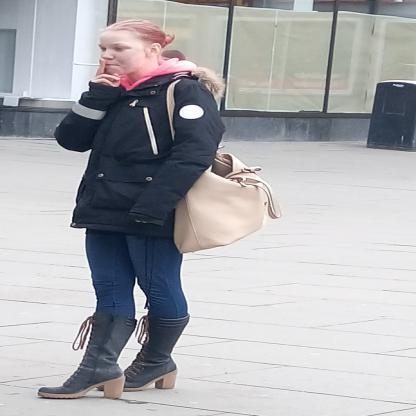smoking: (72, 63, 104, 66)
